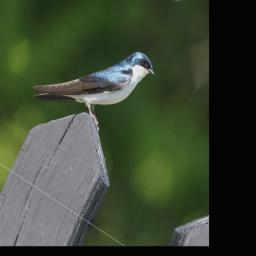Swallow: (28, 4, 160, 155)
